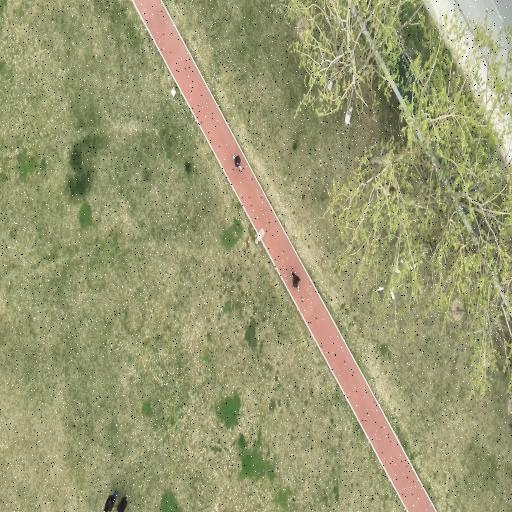person: (103, 490, 117, 511), (116, 495, 126, 511), (290, 272, 299, 288), (233, 156, 240, 169), (509, 425, 511, 430)
